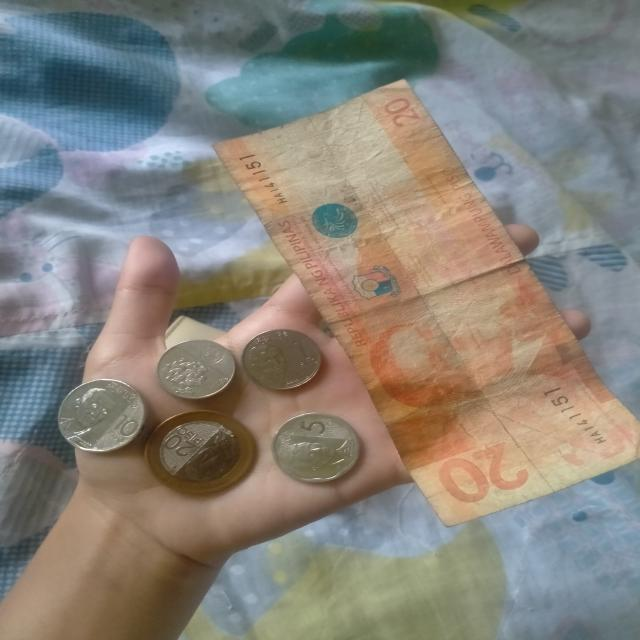20_New_Front: (162, 420, 212, 461)
